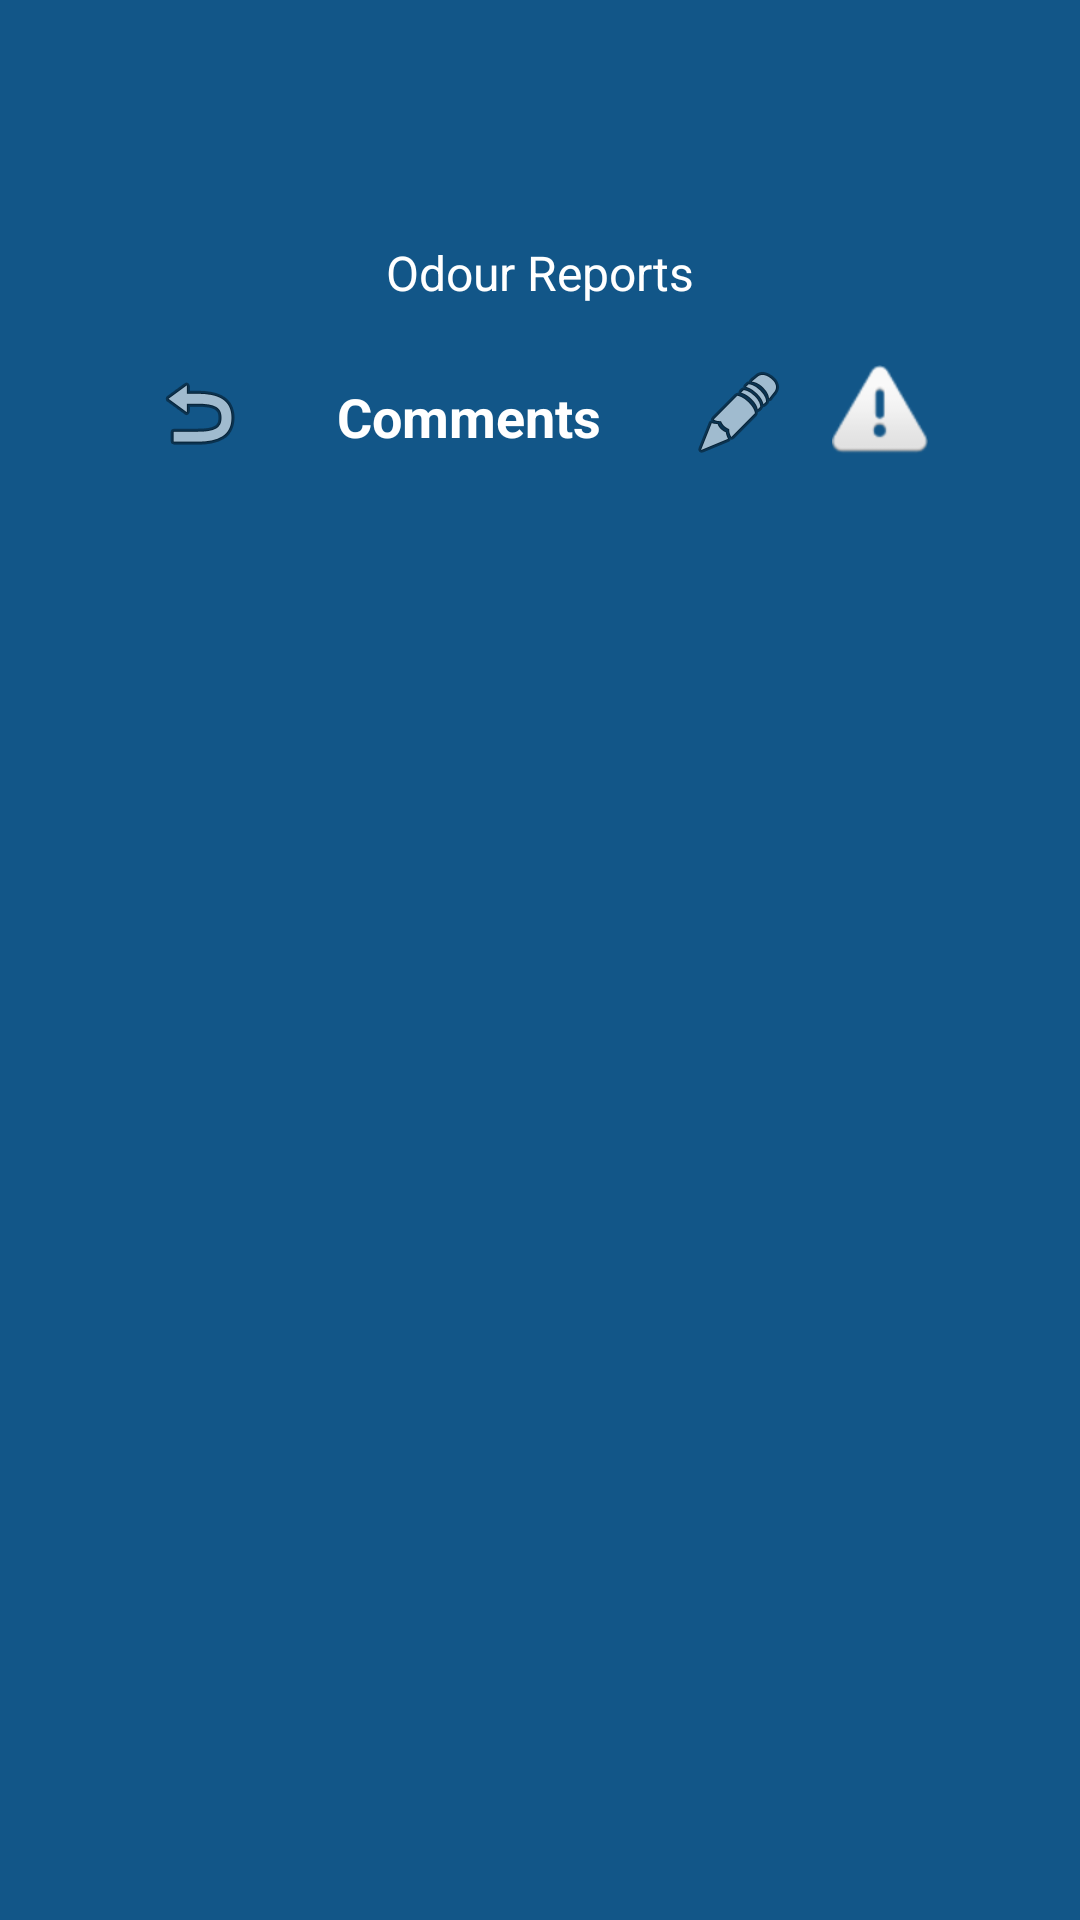

Screen size 1080px×1920px. Icon name, then its center in pixels as (x=x, y=y):
alert: (x=880, y=408)
edit: (x=738, y=412)
revert: (x=200, y=414)
